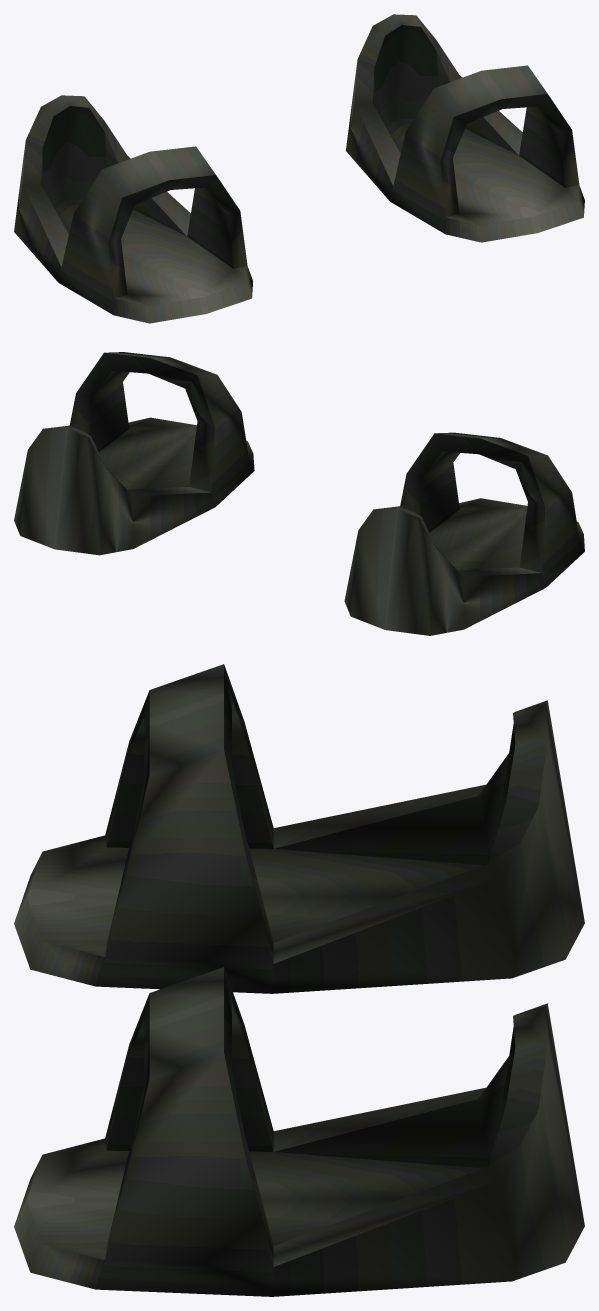
The model's file is Freestyler_Default.glb.
3 renders of one model, top to bottom at view 1: azimuth 30°, elevation 25°; view 2: azimuth 150°, elevation 25°; view 3: azimuth 270°, elevation 25°, orthographic. The views are drawn at different scales.
Visible parts, largest first — view 1: Freestyler_Default; view 2: Freestyler_Default; view 3: Freestyler_Default.
Boxes of the visible parts, x1,y1,x2,y2 form: Freestyler_Default: [14, 14, 584, 323]; Freestyler_Default: [14, 352, 584, 635]; Freestyler_Default: [14, 664, 584, 1296].
Bounding box in the file's own units: 4.78 × 1.14 × 2.59.
Materials: 1 (1 with a texture image).
